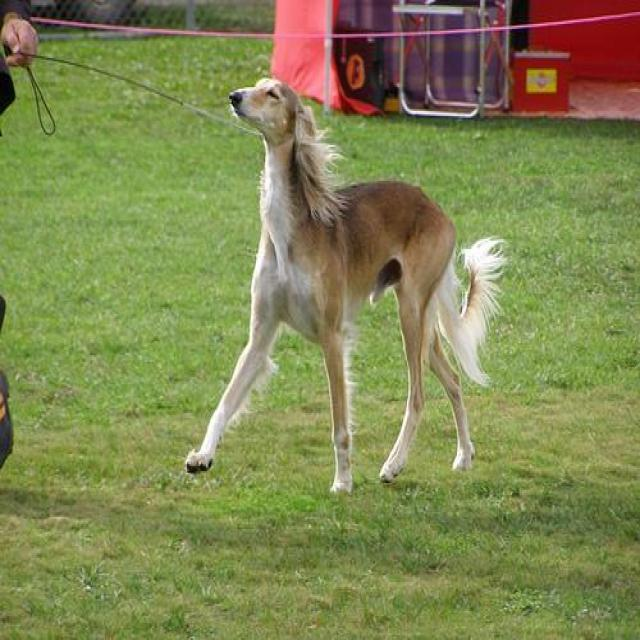saluki: (185, 80, 507, 493)
